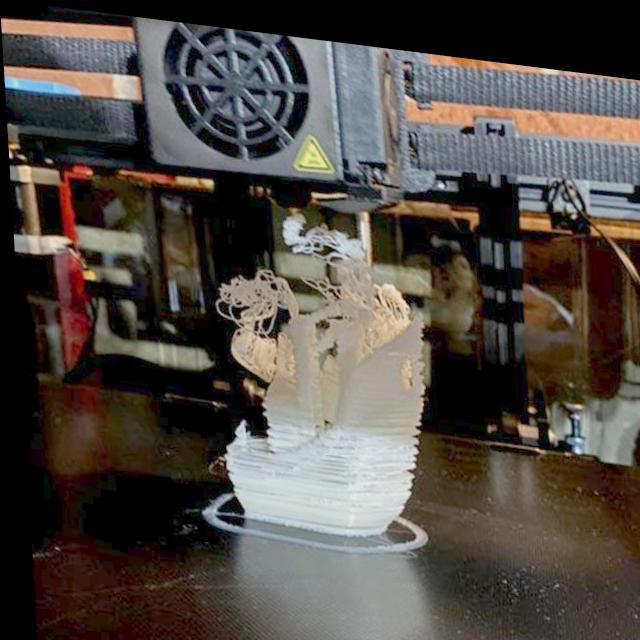spaghetti: (204, 190, 418, 398)
